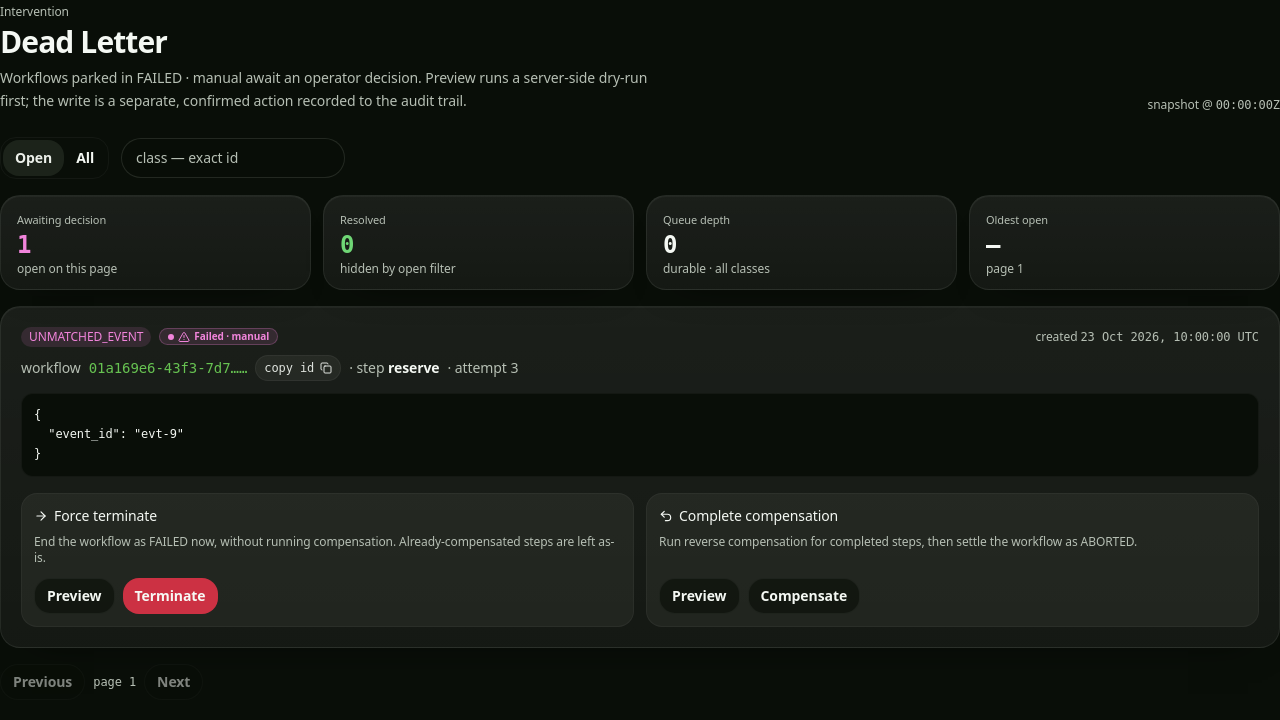
Test: Dead letter queue › refuses to fire the confirmed write until a reason exists
This screenshot has width=1280, height=720.
Later steps or results of the test are not shown.
Click the button "Terminate": (170, 596) [122, 578, 218, 614]
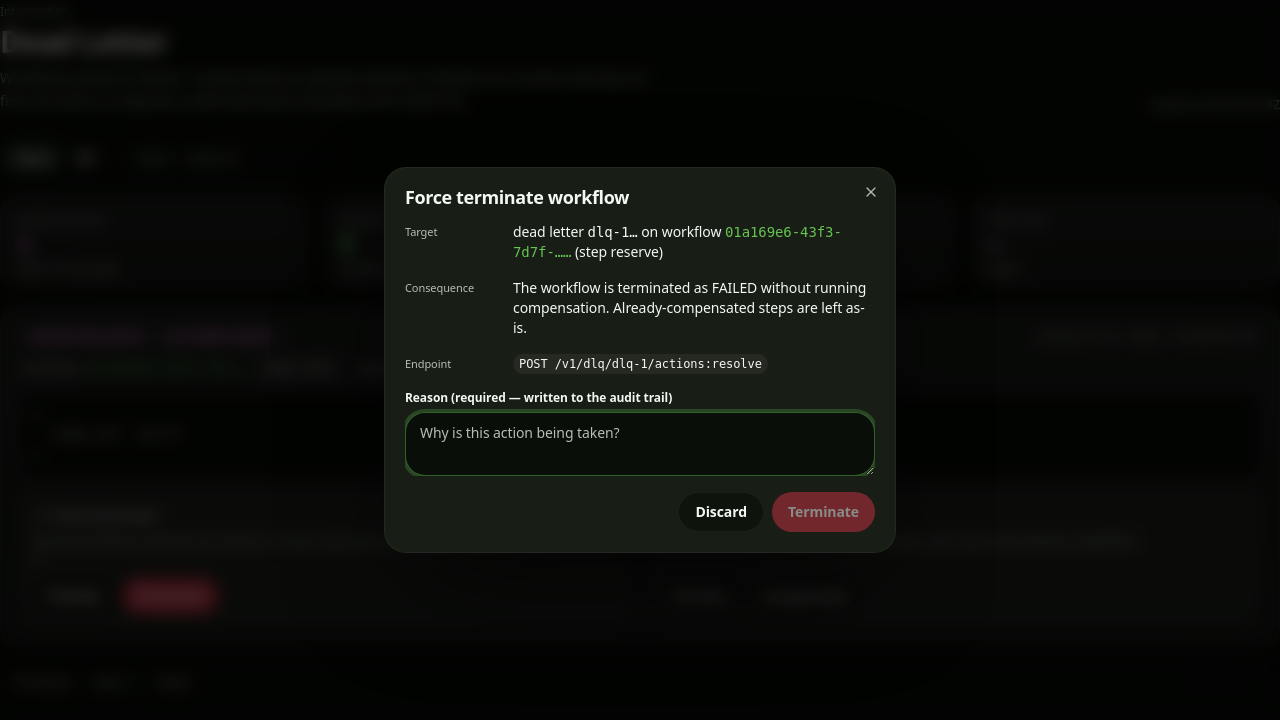
Now the dialog shows "without running compensation", box [513, 278, 866, 337]
Now the text "POST /v1/dlq/dlq-1/actions:resolve" is shown, box [513, 354, 768, 374]
Now the button "Terminate" is disabled, box [772, 492, 875, 532]
In the text box labelled "Reason (required — written to the audit trail)": (640, 444) [405, 412, 875, 476], type "vendor confirmed the order was never placed"
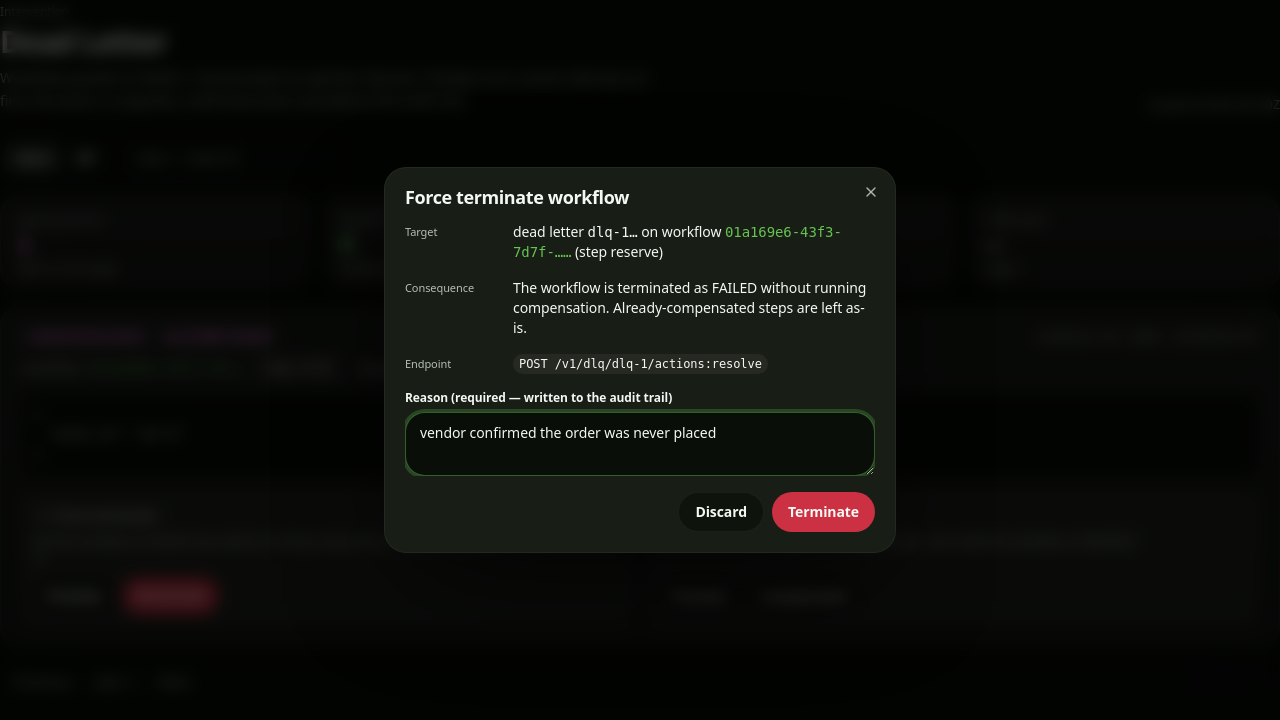
Now the button "Terminate" is enabled, box [772, 492, 875, 532]
